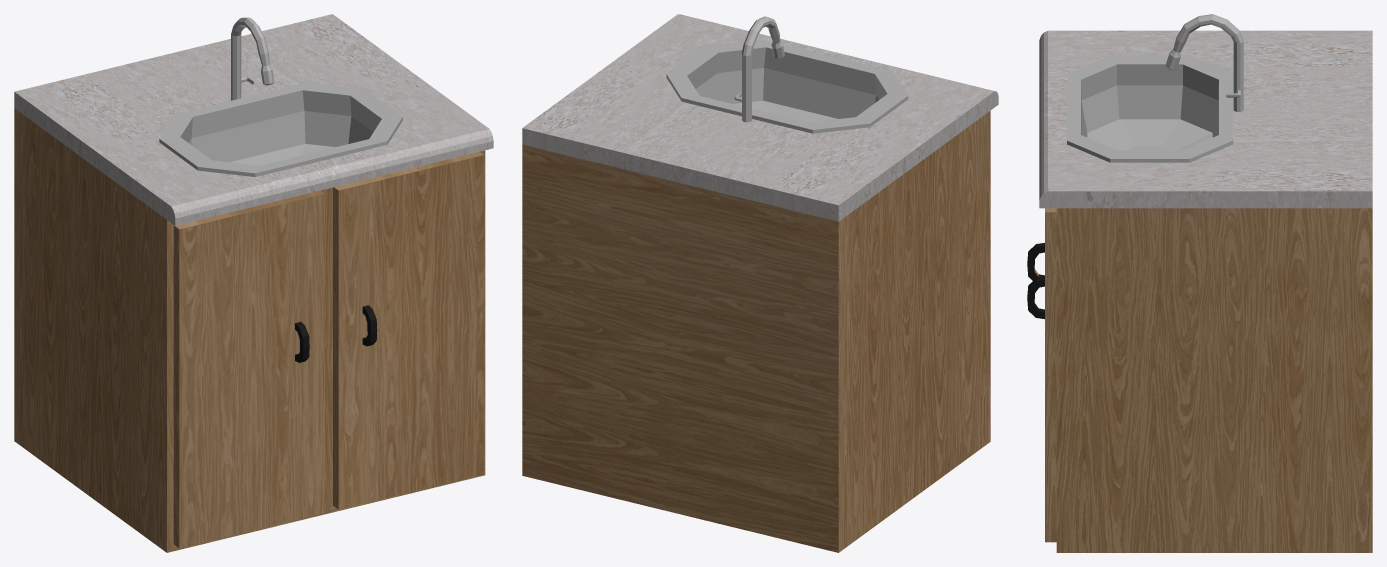
Rendered from Kärpänen_Keittiö_Kaappi_Hana.fbx.
3 renders of one model, left to right at view 1: azimuth 30°, elevation 25°; view 2: azimuth 150°, elevation 25°; view 3: azimuth 270°, elevation 25°, orthographic. The views are drawn at different scales.
Parts seen in each view (by area): view 1: Cube.005, Cube.031, Cube.032; view 2: Cube.005, Cube.031, Cube.032; view 3: Cube.005, Cube.031, Cube.032.
Boxes of the visible parts, left/top/right/bottom form: Cube.005: left=14, top=14, right=493, bottom=552; Cube.031: left=159, top=82, right=402, bottom=176; Cube.032: left=231, top=17, right=274, bottom=100; Cube.005: left=522, top=14, right=998, bottom=552; Cube.031: left=666, top=39, right=908, bottom=133; Cube.032: left=742, top=16, right=784, bottom=122; Cube.005: left=1027, top=30, right=1372, bottom=552; Cube.031: left=1067, top=55, right=1233, bottom=162; Cube.032: left=1166, top=14, right=1243, bottom=111.
Bounding box in the file's own units: 2531 × 3355 × 2298.
4 materials, 2 textured.
